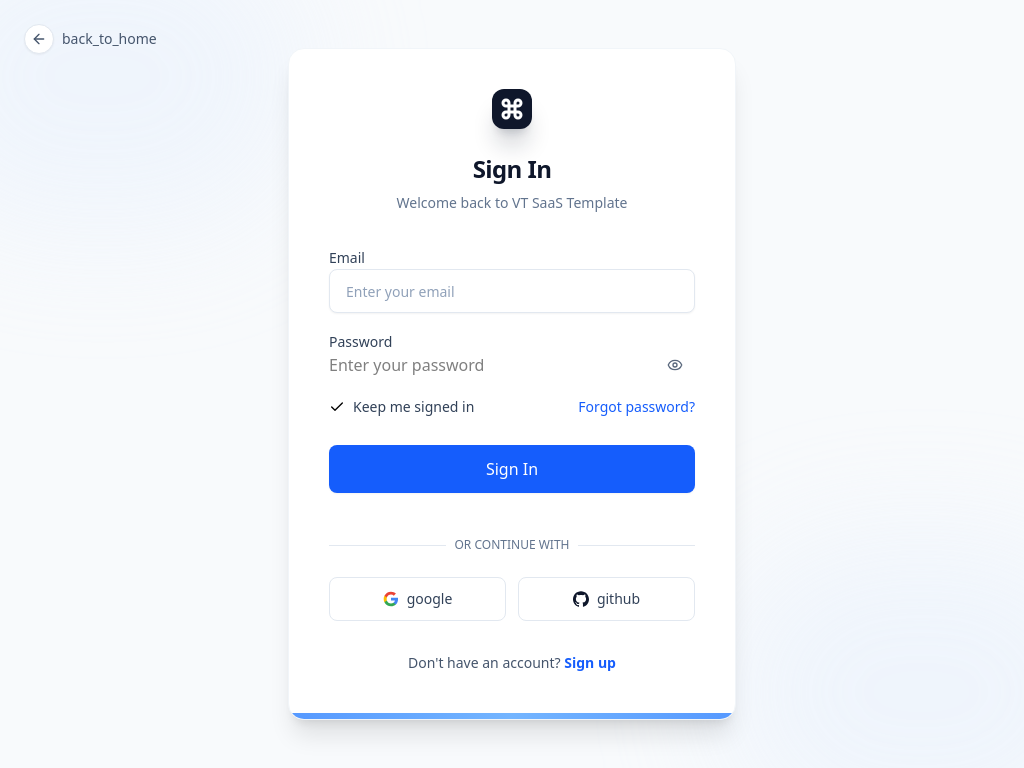
SignInFormClient › shows error message for invalid credentials
Type "test@example.com" into the field labelled "Email" at (512, 291), box [329, 269, 695, 313]
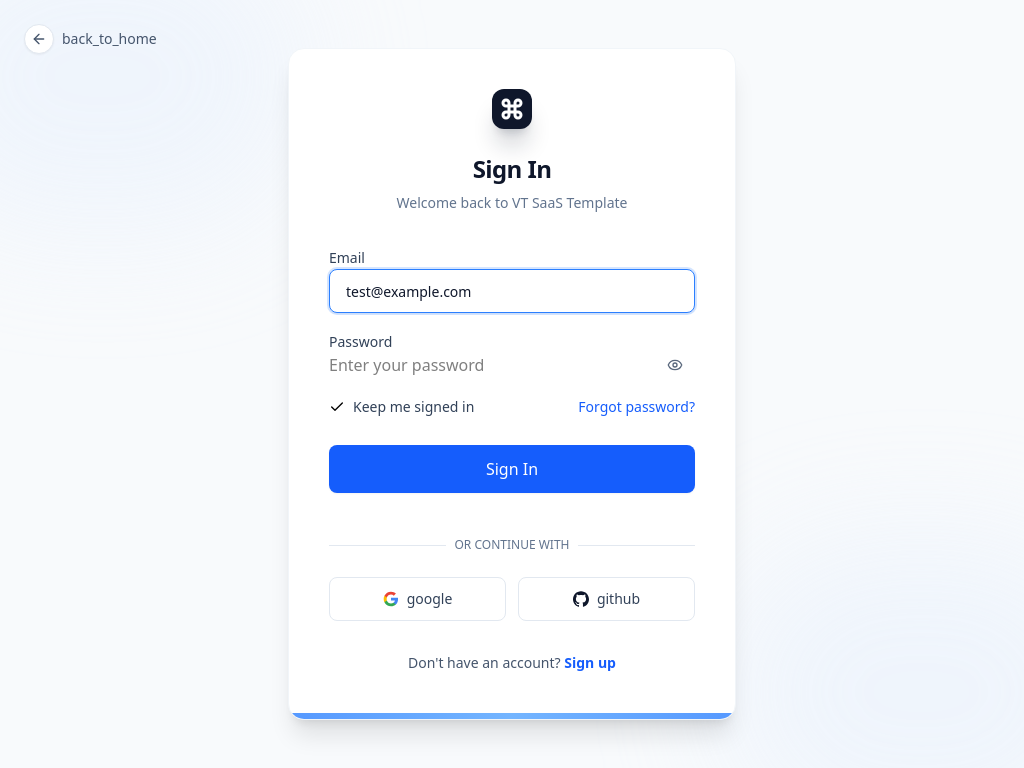
Type "WrongPassword" into the password field labelled "Password" at (444, 365), box [329, 353, 560, 377]
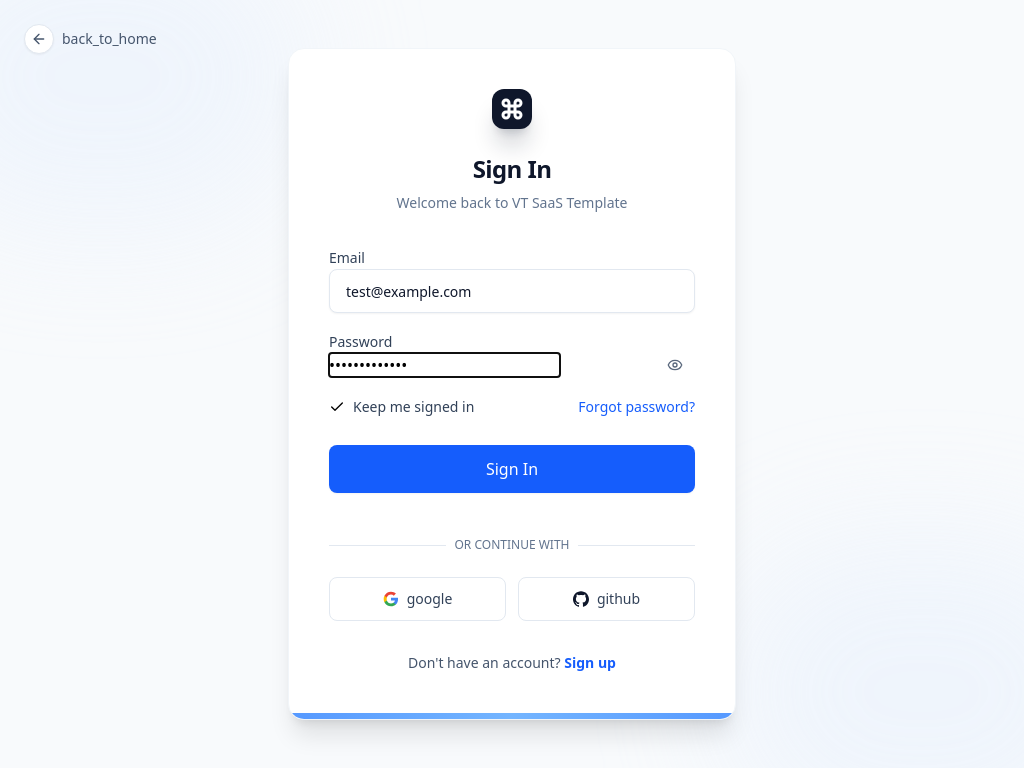
Click the button "Sign In" at (512, 469), box [329, 445, 695, 493]
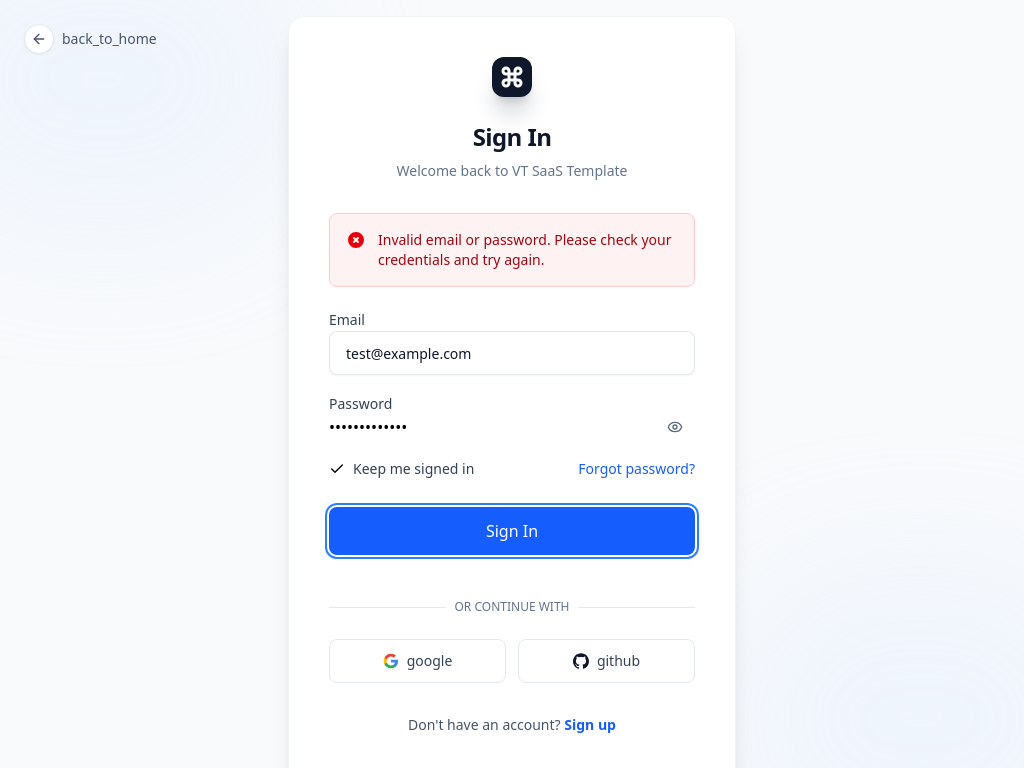
Check: the text "Invalid email or password. Please check your credentials and try again." is shown, box [378, 230, 678, 270]
